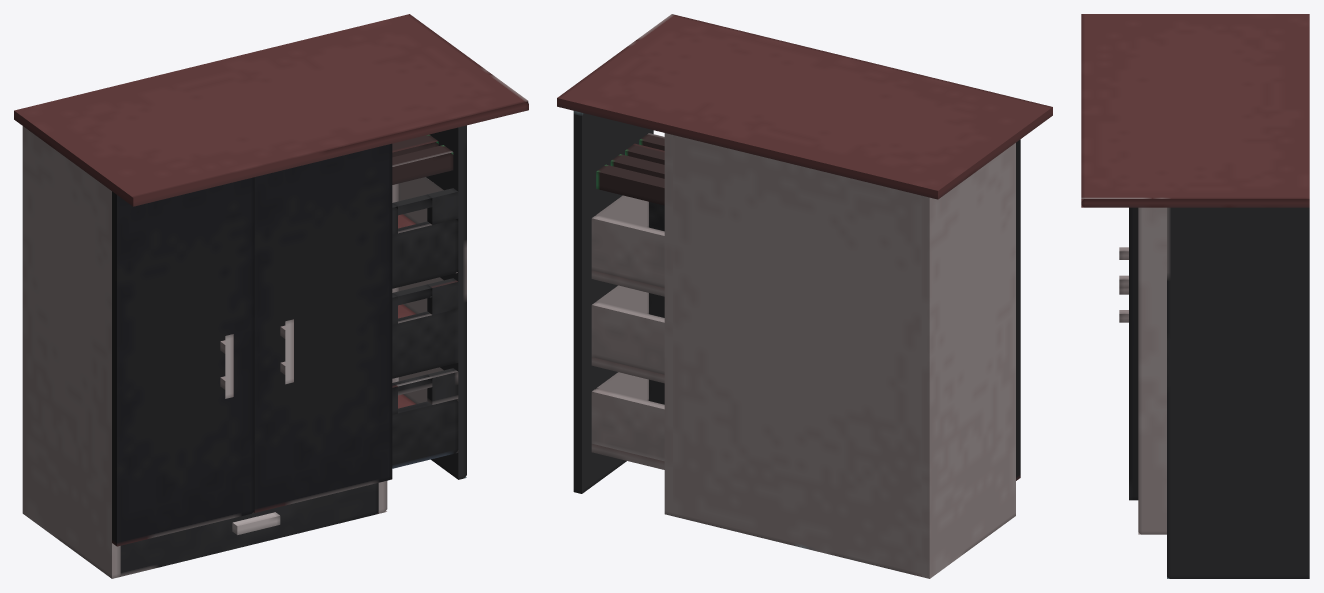
3 views of the same model, side by side, from view 1: azimuth 30°, elevation 25°; view 2: azimuth 150°, elevation 25°; view 3: azimuth 270°, elevation 25° (orthographic). The views are drawn at different scales.
Parts seen in each view (by area): view 1: cube; view 2: cube; view 3: cube.
Part boxes in pixels (x1=…): cube: x1=14, y1=14, x2=528, y2=578; cube: x1=557, y1=14, x2=1052, y2=578; cube: x1=1081, y1=14, x2=1309, y2=578.
Bounding box in the file's own units: 46 × 45 × 24.
